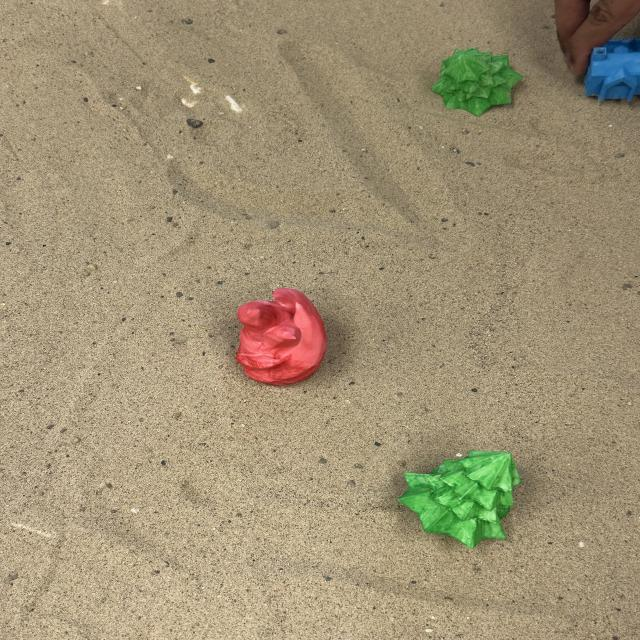fire: (234, 286, 328, 386)
house: (583, 37, 638, 102)
tree: (396, 449, 522, 549), (430, 46, 523, 117)
